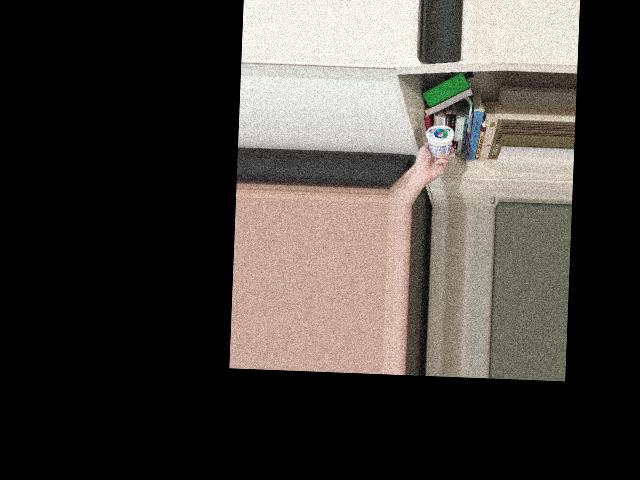cotage: (425, 123, 455, 163)
